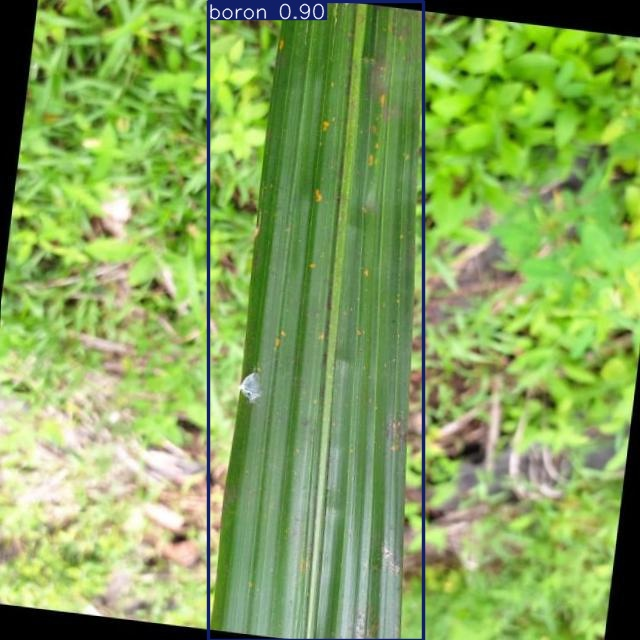nitrogen: (208, 1, 423, 640)
